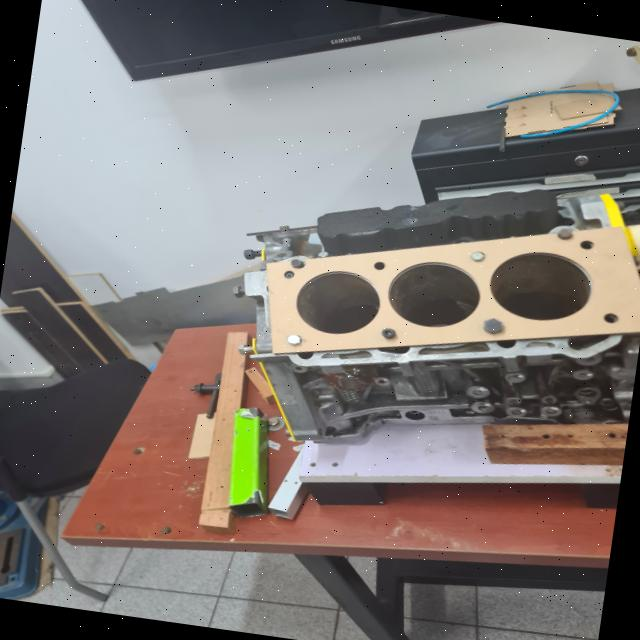tor_v1: (266, 228, 640, 354)
